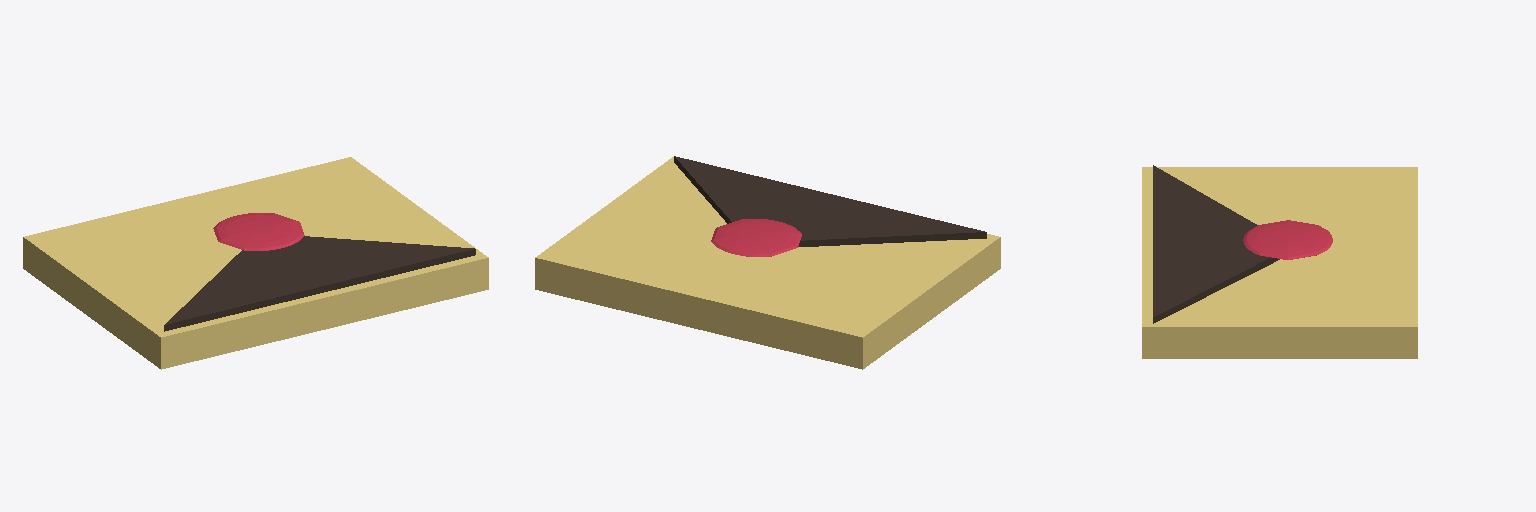
Rendered from Envelope.obj.
3 renders of one model, left to right at view 1: azimuth 30°, elevation 25°; view 2: azimuth 150°, elevation 25°; view 3: azimuth 270°, elevation 25°, orthographic.
Visible parts, largest first — view 1: Envelope; view 2: Envelope; view 3: Envelope.
Part boxes in pixels (x1,y1,x2,y2): Envelope: (23, 157, 488, 369); Envelope: (535, 156, 1000, 369); Envelope: (1142, 165, 1417, 358).
Size of the model in its own units: 0.3625 by 0.0491 by 0.2639.